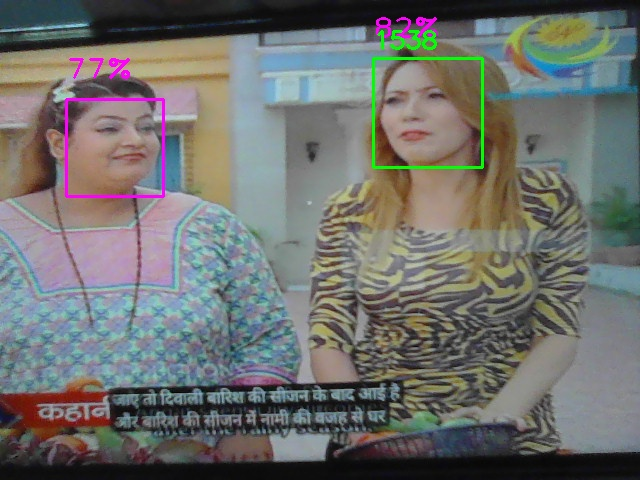fake: (373, 58, 483, 168)
